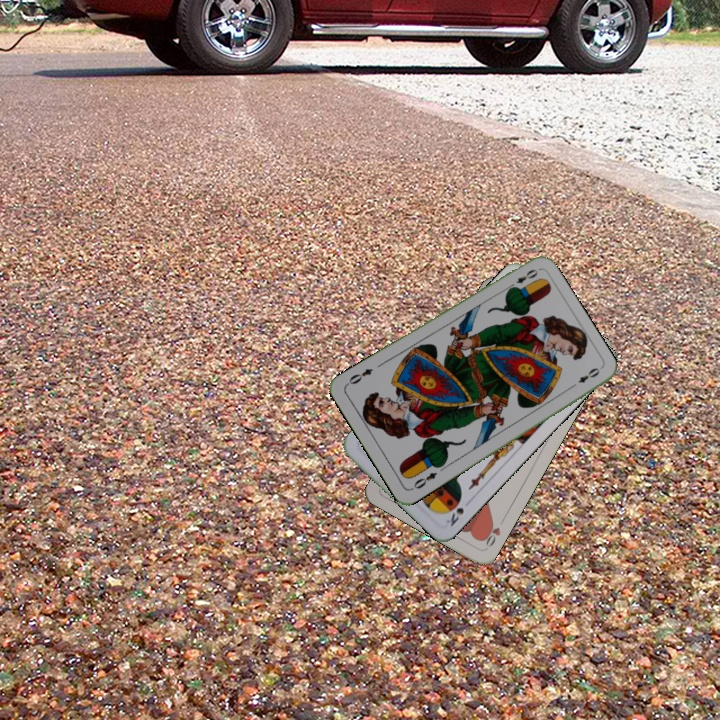EO: (504, 265, 541, 292), (407, 468, 440, 493)
HO: (478, 517, 503, 550)
SK: (442, 504, 466, 529)
